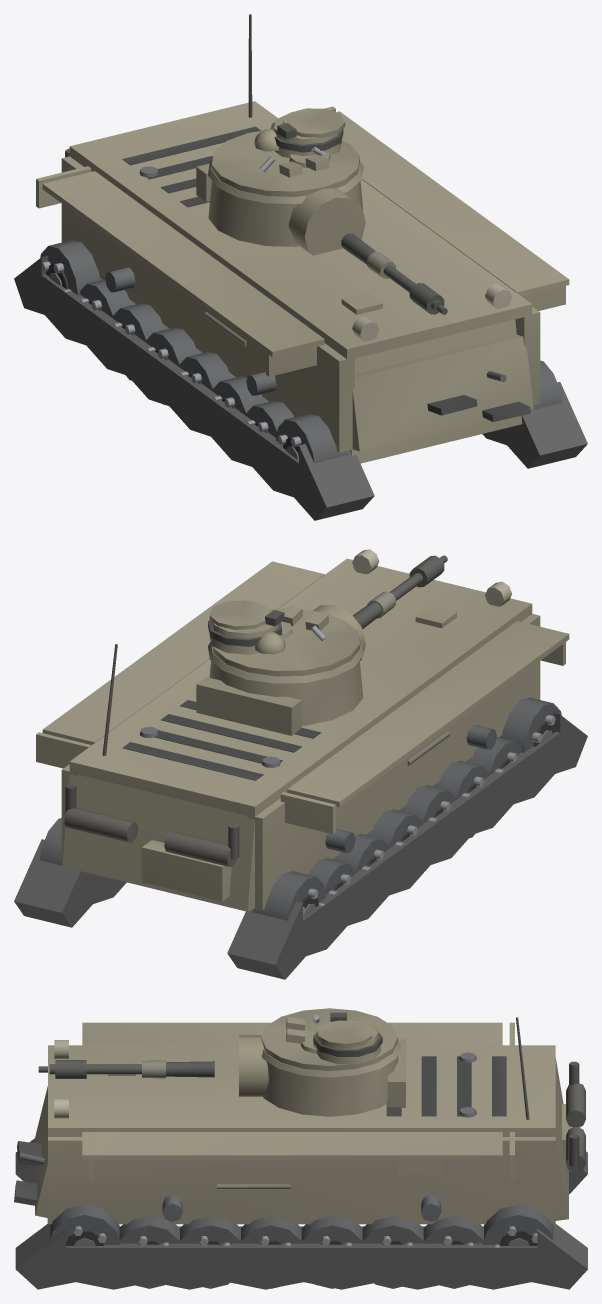
Rendered from chiha.glb.
The picture shows the model from 3 angles, top to bottom: view 1: azimuth 30°, elevation 25°; view 2: azimuth 150°, elevation 25°; view 3: azimuth 270°, elevation 25°; orthographic projection. The views are drawn at different scales.
Parts seen in each view (by area): view 1: hullSide, hullTop, tracks, lowerPlate, turretRoof, glacis, turretFront, mantlet, wheel7, barrel, wheel6, wheel1 (+7 smaller); view 2: hullSide, hullTop, tracks, hullRear, turretRoof, turretFront, turretRear, wheel6, wheel7, barrel, turretSide, wheel4 (+8 smaller); view 3: hullSide, hullTop, tracks, turretRoof, turretFront, hullRear, barrel, wheel15, wheel14, mantlet, wheel8, wheel13 (+8 smaller).
Boxes of the visible parts, x1,y1,x2,y2 form: hullSide: [36, 106, 569, 452]; hullTop: [69, 101, 532, 359]; tracks: [14, 255, 587, 520]; lowerPlate: [352, 334, 533, 451]; turretRoof: [211, 108, 359, 196]; glacis: [341, 292, 530, 463]; turretFront: [208, 181, 363, 246]; mantlet: [288, 188, 365, 255]; wheel7: [40, 240, 102, 295]; barrel: [341, 233, 447, 314]; wheel6: [276, 413, 349, 463]; wheel1: [112, 303, 168, 380]; hullSide: [36, 549, 569, 909]; hullTop: [69, 558, 532, 816]; tracks: [14, 713, 587, 979]; hullRear: [62, 644, 256, 911]; turretRoof: [208, 600, 359, 676]; turretFront: [209, 660, 363, 725]; turretRear: [196, 677, 301, 735]; wheel6: [499, 697, 561, 752]; wheel7: [253, 871, 325, 920]; barrel: [353, 555, 447, 629]; turretSide: [208, 638, 363, 683]; wheel4: [433, 760, 488, 838]; hullSide: [48, 1022, 555, 1224]; hullTop: [48, 1045, 555, 1136]; tracks: [15, 1138, 587, 1289]; turretRoof: [261, 1008, 397, 1070]; turretFront: [263, 1055, 398, 1116]; hullRear: [516, 1017, 585, 1220]; barrel: [38, 1060, 214, 1078]; wheel15: [483, 1204, 553, 1247]; wheel14: [50, 1204, 120, 1246]; mantlet: [239, 1035, 268, 1096]; wheel8: [423, 1216, 483, 1288]; wheel13: [119, 1216, 179, 1288].
Size of the model in its own units: 3.4 by 2.95 by 6.22.
